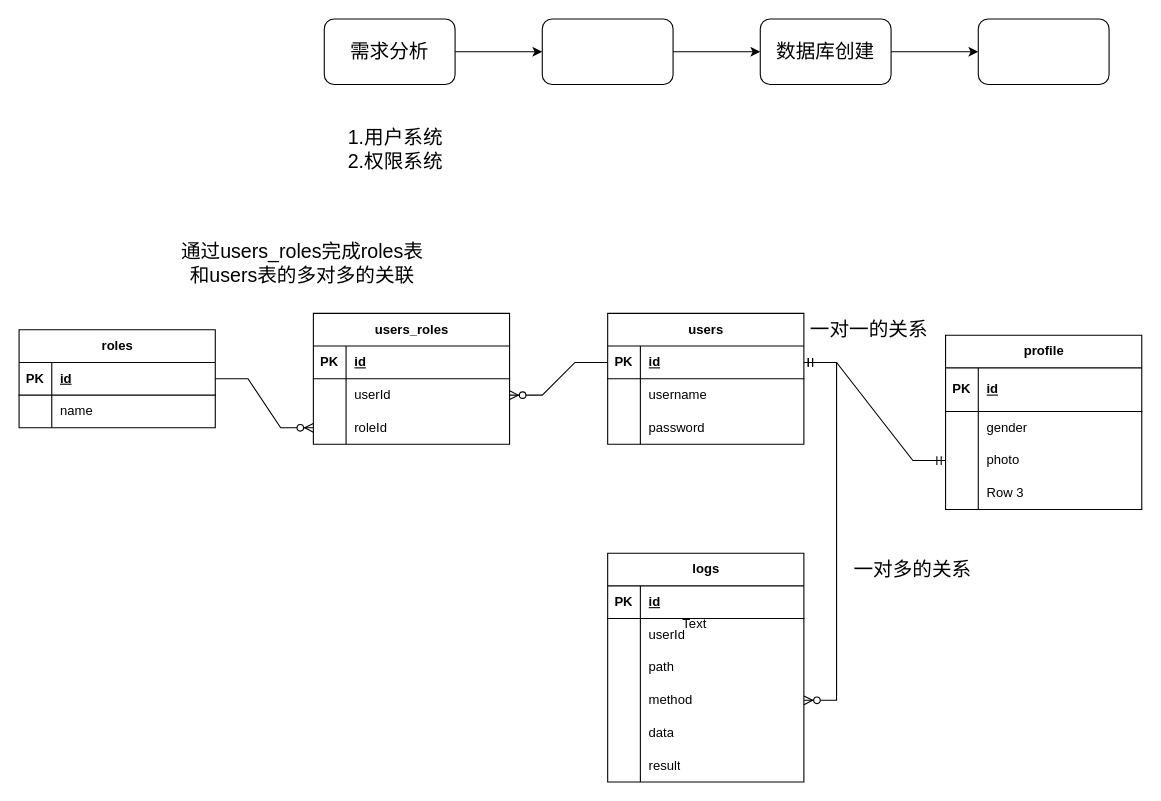
The diagram is 1161 pixels wide and 801 high, and some of its shapes have lost their labels. The centre of each missing label's shape, as x and y in pixels:
"维护与优化" belongs at pixel 1043 51.
"逻辑设计" belongs at pixel 607 51.
